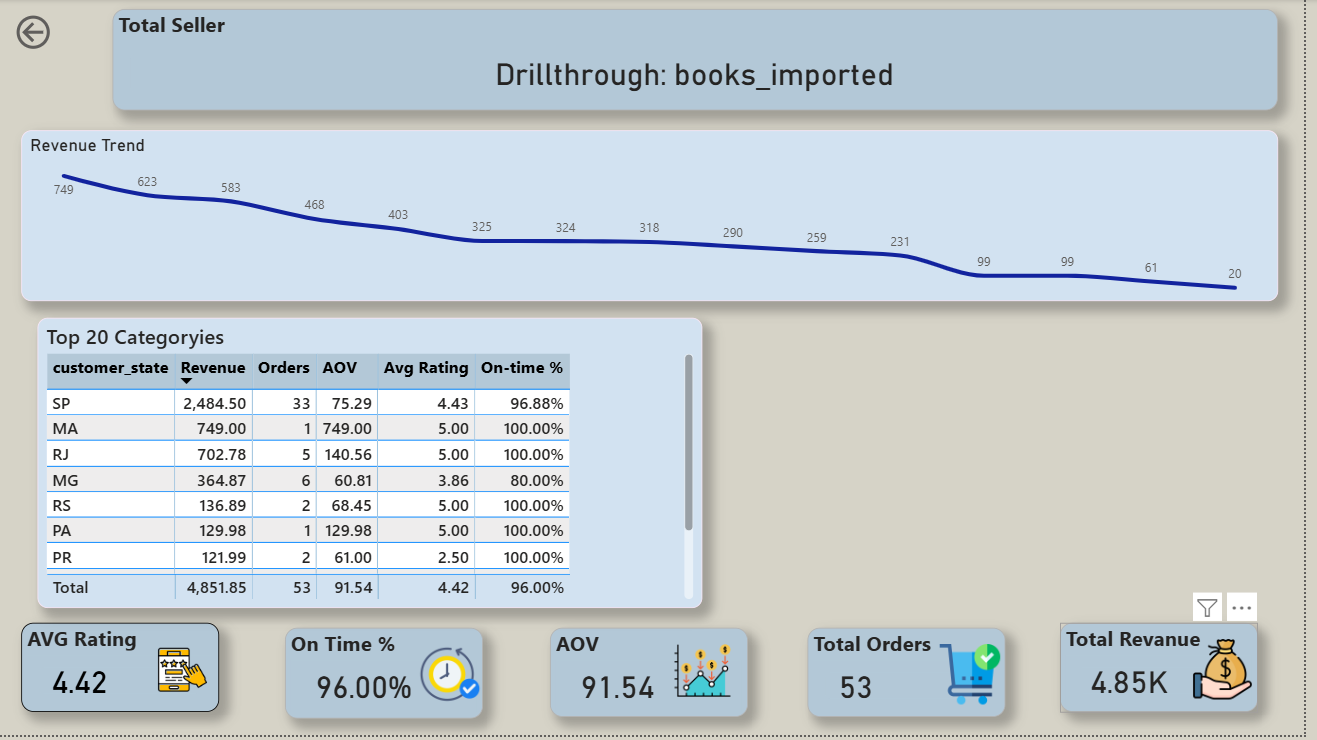

The page's visual inventory and layout, read from the dashboard file:
{"tool":"powerbi","page":{"name":"Drill Thorugh","canvas":[1280,720],"ordinal":8},"visuals":[{"type":"actionButton","box":[15.3,10.7,52.2,43],"z":0},{"type":"cardVisual","title":"Total Seller","fields":{"Data":["public bi_fact_sales.Drill Title"]},"box":[115.4,10.1,1139.8,99.6],"z":1000},{"type":"cardVisual","title":"Total Revanue","fields":{"Data":["public bi_fact_sales.Revenue"]},"box":[1041.9,610.7,193.3,87.5],"z":2000},{"type":"cardVisual","title":"AOV","fields":{"Data":["public bi_fact_sales.AOV"]},"box":[543.2,615.3,193.3,87.5],"z":3000},{"type":"cardVisual","title":"On Time %","fields":{"Data":["public bi_fact_sales.On-time %"]},"box":[283.9,615.3,193.3,89],"z":4000},{"type":"cardVisual","title":"AVG Rating","fields":{"Data":["public bi_fact_sales.Avg Rating"]},"box":[26.1,610.7,193.3,87.5],"z":5000},{"type":"cardVisual","title":"Total Orders","fields":{"Data":["public bi_fact_sales.Orders"]},"box":[794.8,615.3,193.3,87.5],"z":6000},{"type":"lineChart","title":"Revenue Trend","fields":{"Y":["public bi_fact_sales.Revenue"],"Category":["DimDate.Year-Month"]},"box":[26,128.4,1229.2,167.4],"z":7000},{"type":"tableEx","title":"Top 20 Categoryies","fields":{"Values":["public bi_fact_sales.customer_state","public bi_fact_sales.Revenue","public bi_fact_sales.Orders","public bi_fact_sales.AOV","public bi_fact_sales.Avg Rating","public bi_fact_sales.On-time %"]},"box":[41.8,311.6,650.7,284.2],"z":8000},{"type":"image","box":[139.9,631.9,88,47.6],"z":9000},{"type":"image","box":[401.1,630.5,88,59.2],"z":10000},{"type":"image","box":[647.8,627.6,88,59.2],"z":11000},{"type":"image","box":[910.4,630.5,88,59.2],"z":12000},{"type":"image","box":[1157.1,626.2,88,59.2],"z":13000}]}

Visuals, with their boxes in screenshot pixels (x1, y1, x2, y2), scaled from the page's 1280x720 canvas onto the 1317x740 screenshot:
actionButton: 16:11:69:55
"Total Seller" cardVisual: 119:10:1291:113
"Total Revanue" cardVisual: 1072:628:1271:718
"AOV" cardVisual: 559:632:758:722
"On Time %" cardVisual: 292:632:491:724
"AVG Rating" cardVisual: 27:628:226:718
"Total Orders" cardVisual: 818:632:1017:722
"Revenue Trend" lineChart: 27:132:1291:304
"Top 20 Categoryies" tableEx: 43:320:713:612
image: 144:649:234:698
image: 413:648:503:709
image: 667:645:757:706
image: 937:648:1027:709
image: 1191:644:1281:704
